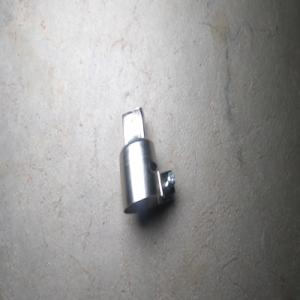MetalPart: (118, 105, 176, 214)
